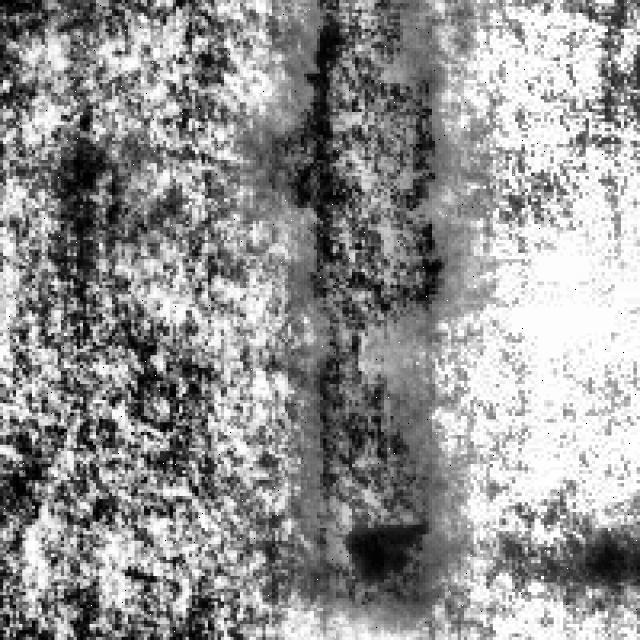Scratches: (275, 0, 464, 608)
